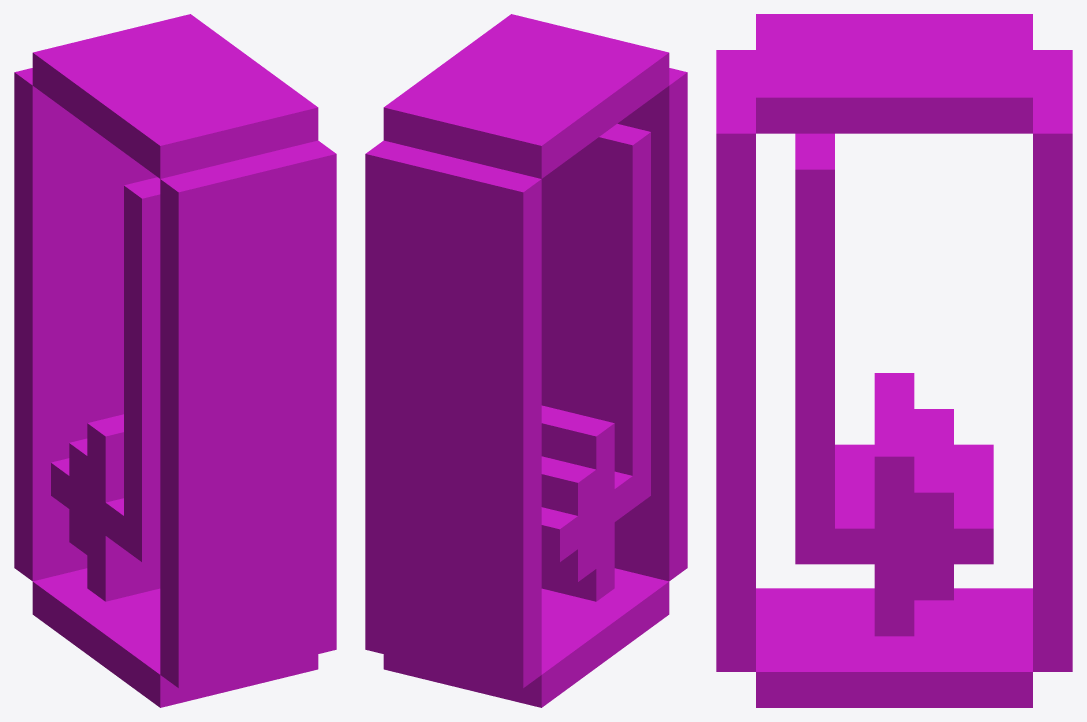
The model's file is Motors-1.obj.
The picture shows the model from 3 angles, left to right: view 1: azimuth 30°, elevation 25°; view 2: azimuth 150°, elevation 25°; view 3: azimuth 270°, elevation 25°; orthographic projection. The views are drawn at different scales.
Bounding box in the file's own units: 0.5 × 1.7 × 0.9.
Materials: 1 (1 with a texture image).
